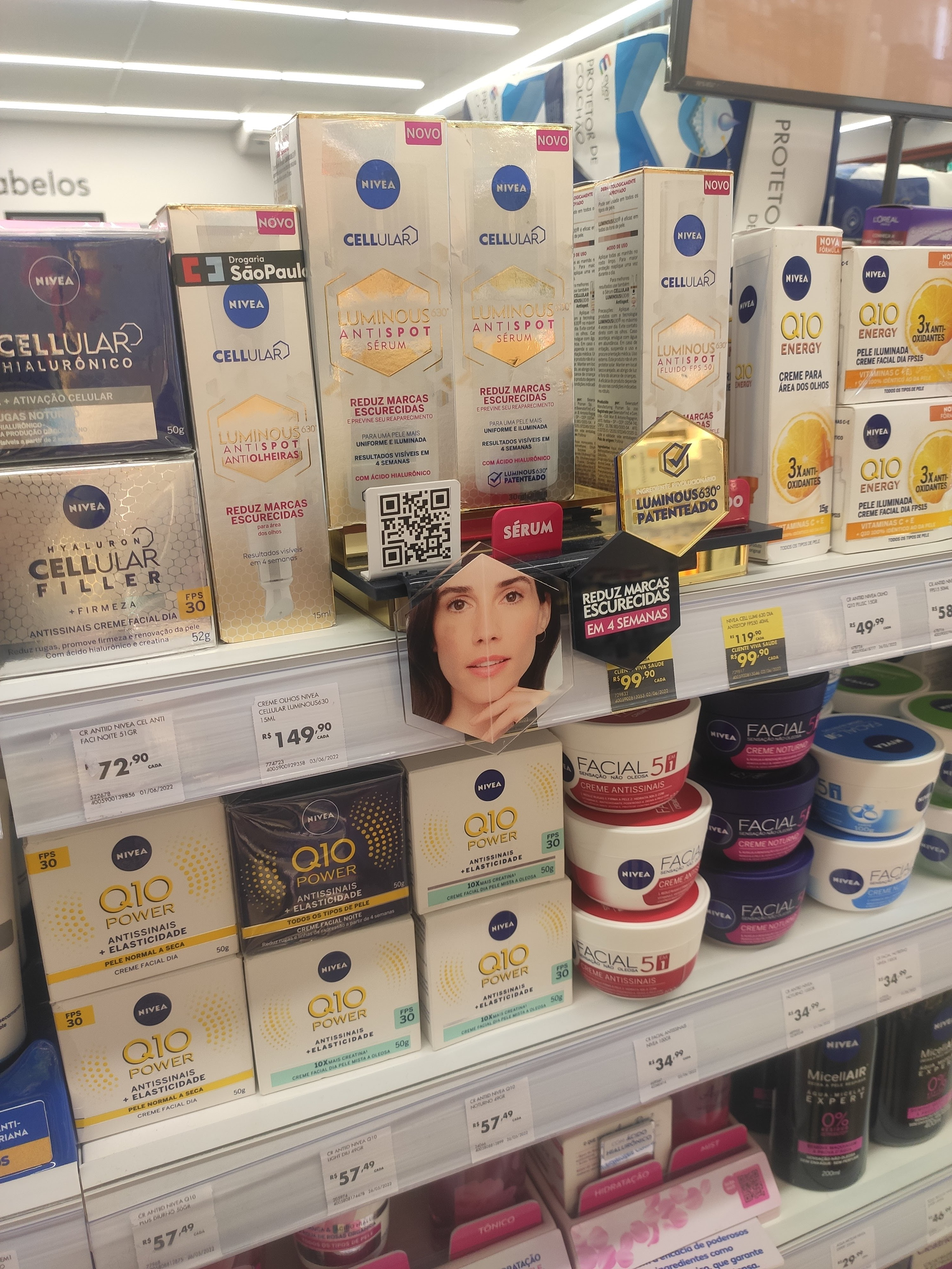QR-CODE: (380, 488, 451, 568)
